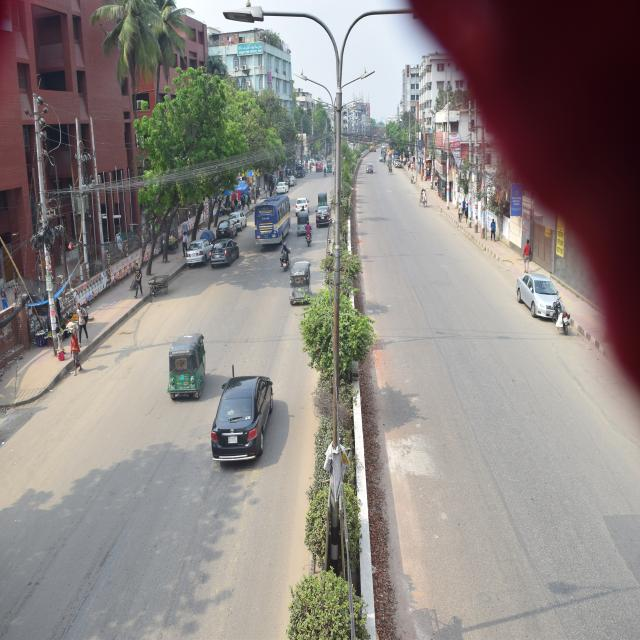bus: (253, 190, 296, 256)
car: (208, 366, 278, 471), (514, 264, 566, 328), (206, 242, 242, 272), (182, 237, 212, 267), (212, 216, 239, 244), (226, 207, 249, 238), (312, 201, 335, 232), (294, 190, 308, 218)
motorbike: (552, 295, 576, 336), (273, 240, 290, 274), (304, 228, 316, 252)
